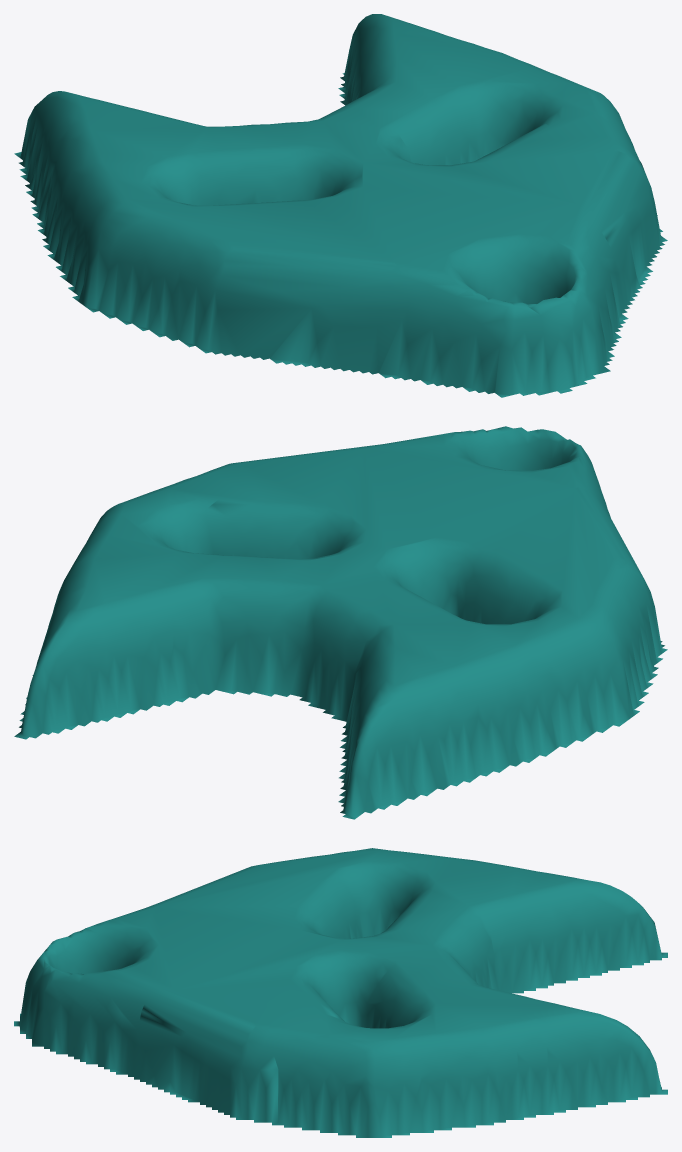
Rendered from decoration-hunter.glb.
3 renders of one model, top to bottom at view 1: azimuth 30°, elevation 25°; view 2: azimuth 150°, elevation 25°; view 3: azimuth 270°, elevation 25°, orthographic. The views are drawn at different scales.
Visible parts, largest first — view 1: decoration_hunter; view 2: decoration_hunter; view 3: decoration_hunter.
Part boxes in pixels (x1,y1,x2,y2): decoration_hunter: (14, 14, 667, 397); decoration_hunter: (14, 426, 667, 819); decoration_hunter: (14, 848, 667, 1137).
Bounding box in the file's own units: 0.162 × 0.026 × 0.1962.
